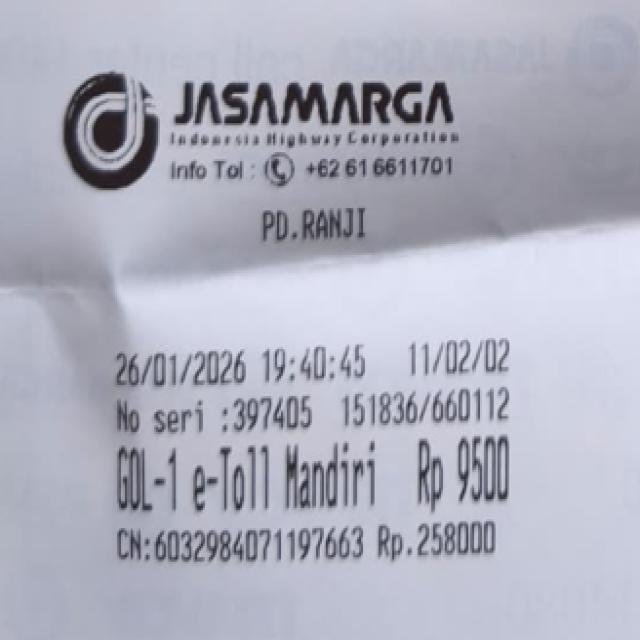date: (103, 338, 373, 381)
store: (172, 73, 457, 148)
total: (404, 438, 528, 512)
